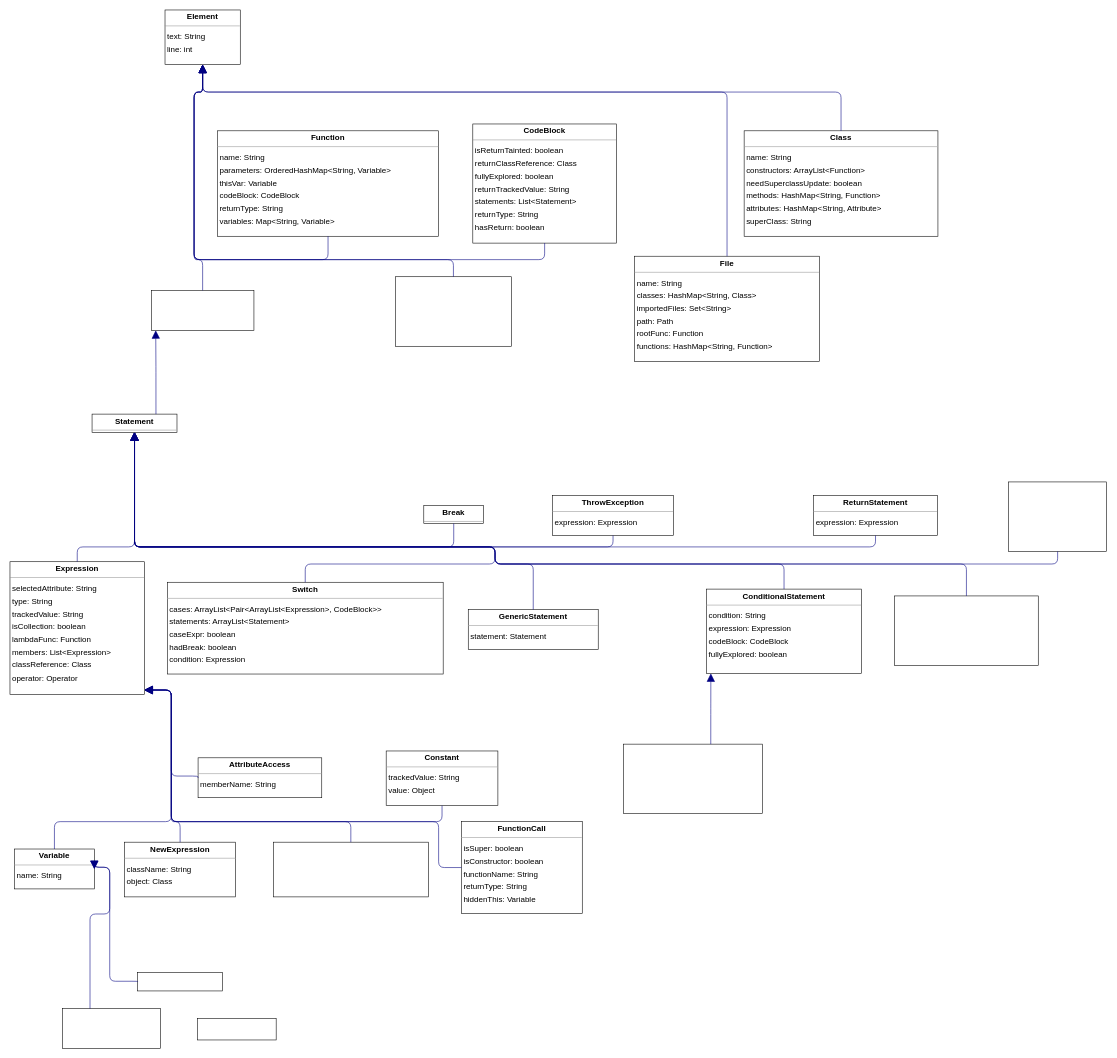
This 1117x1058 diagram has some shape labels left out. Each missing label, with the centre of its shape:
"<<enumeration>> Operator" goes at point 236,1029.
"Assignment operator: String right: Expression left: Expression" goes at point 1057,516.
"Attribute value: Expression" goes at point 111,1028.
"IfStatement elseIf: boolean elseIfs: List<IfStatement> elseBlock: CodeBlock" goes at point 692,779.
"Loop condition: Expression block: CodeBlock update: Expression" goes at point 453,311.
"MethodCallExpression currentType: String source: Expression" goes at point 350,869.
"Parameter" goes at point 180,981.
"Taintable isTainted: boolean" goes at point 202,310.
"TryCatch catchBlock: List<CodeBlock> finallyBlock: CodeBlock tryBlock: CodeBlock" goes at point 966,630.
